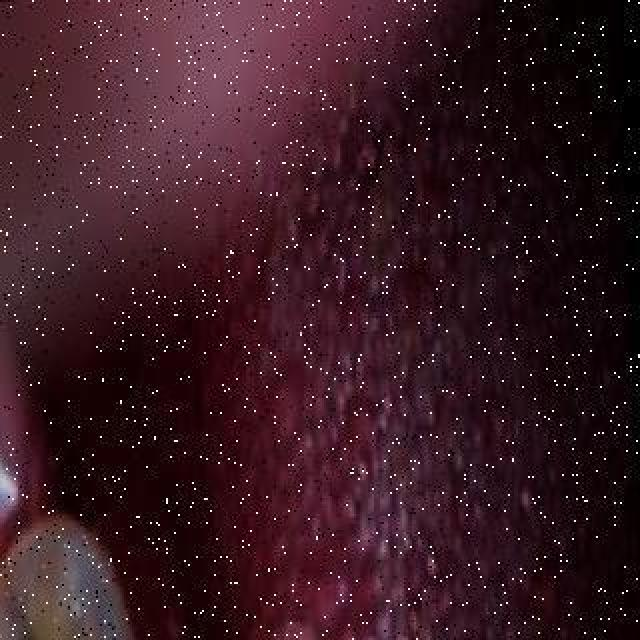cavities: (0, 622, 178, 640)
